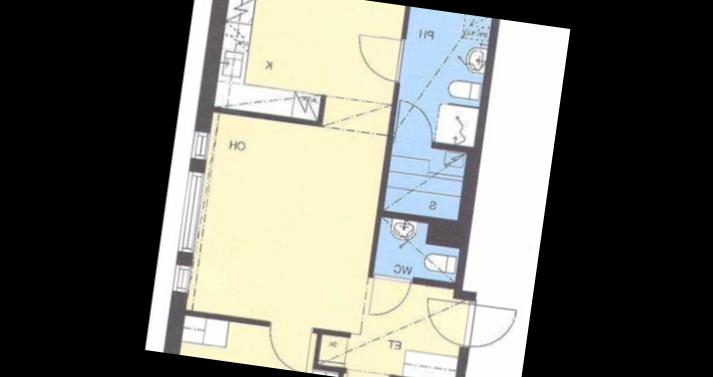door: (460, 298, 518, 356), (418, 294, 476, 350), (348, 31, 409, 84), (260, 320, 314, 372), (389, 94, 438, 149), (366, 269, 413, 320), (342, 366, 390, 377)
window: (171, 167, 207, 258), (167, 259, 193, 296), (186, 125, 211, 162)
